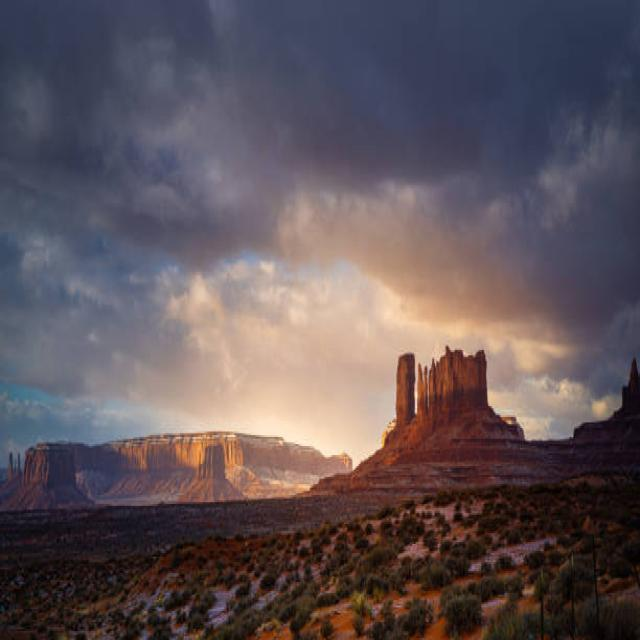Sedimentary: (358, 339, 531, 444)
